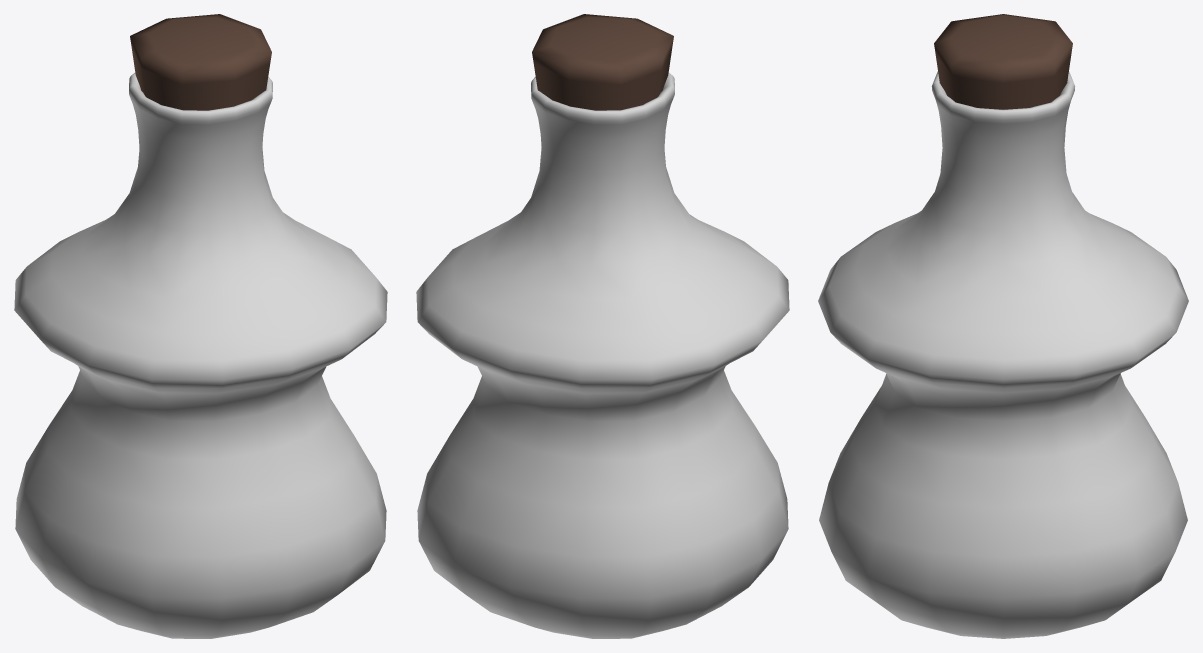
File: Potion5_Empty.glb
3 views of the same model, side by side, from view 1: azimuth 30°, elevation 25°; view 2: azimuth 150°, elevation 25°; view 3: azimuth 270°, elevation 25° (orthographic).
Parts seen in each view (by area): view 1: Potion5_Empty_Cube.136; view 2: Potion5_Empty_Cube.136; view 3: Potion5_Empty_Cube.136.
Boxes of the visible parts, x1,y1,x2,y2 form: Potion5_Empty_Cube.136: (14, 14, 387, 638); Potion5_Empty_Cube.136: (416, 14, 789, 638); Potion5_Empty_Cube.136: (818, 14, 1188, 638).
Bounding box in the file's own units: 0.7081 × 1.23 × 0.7081.
